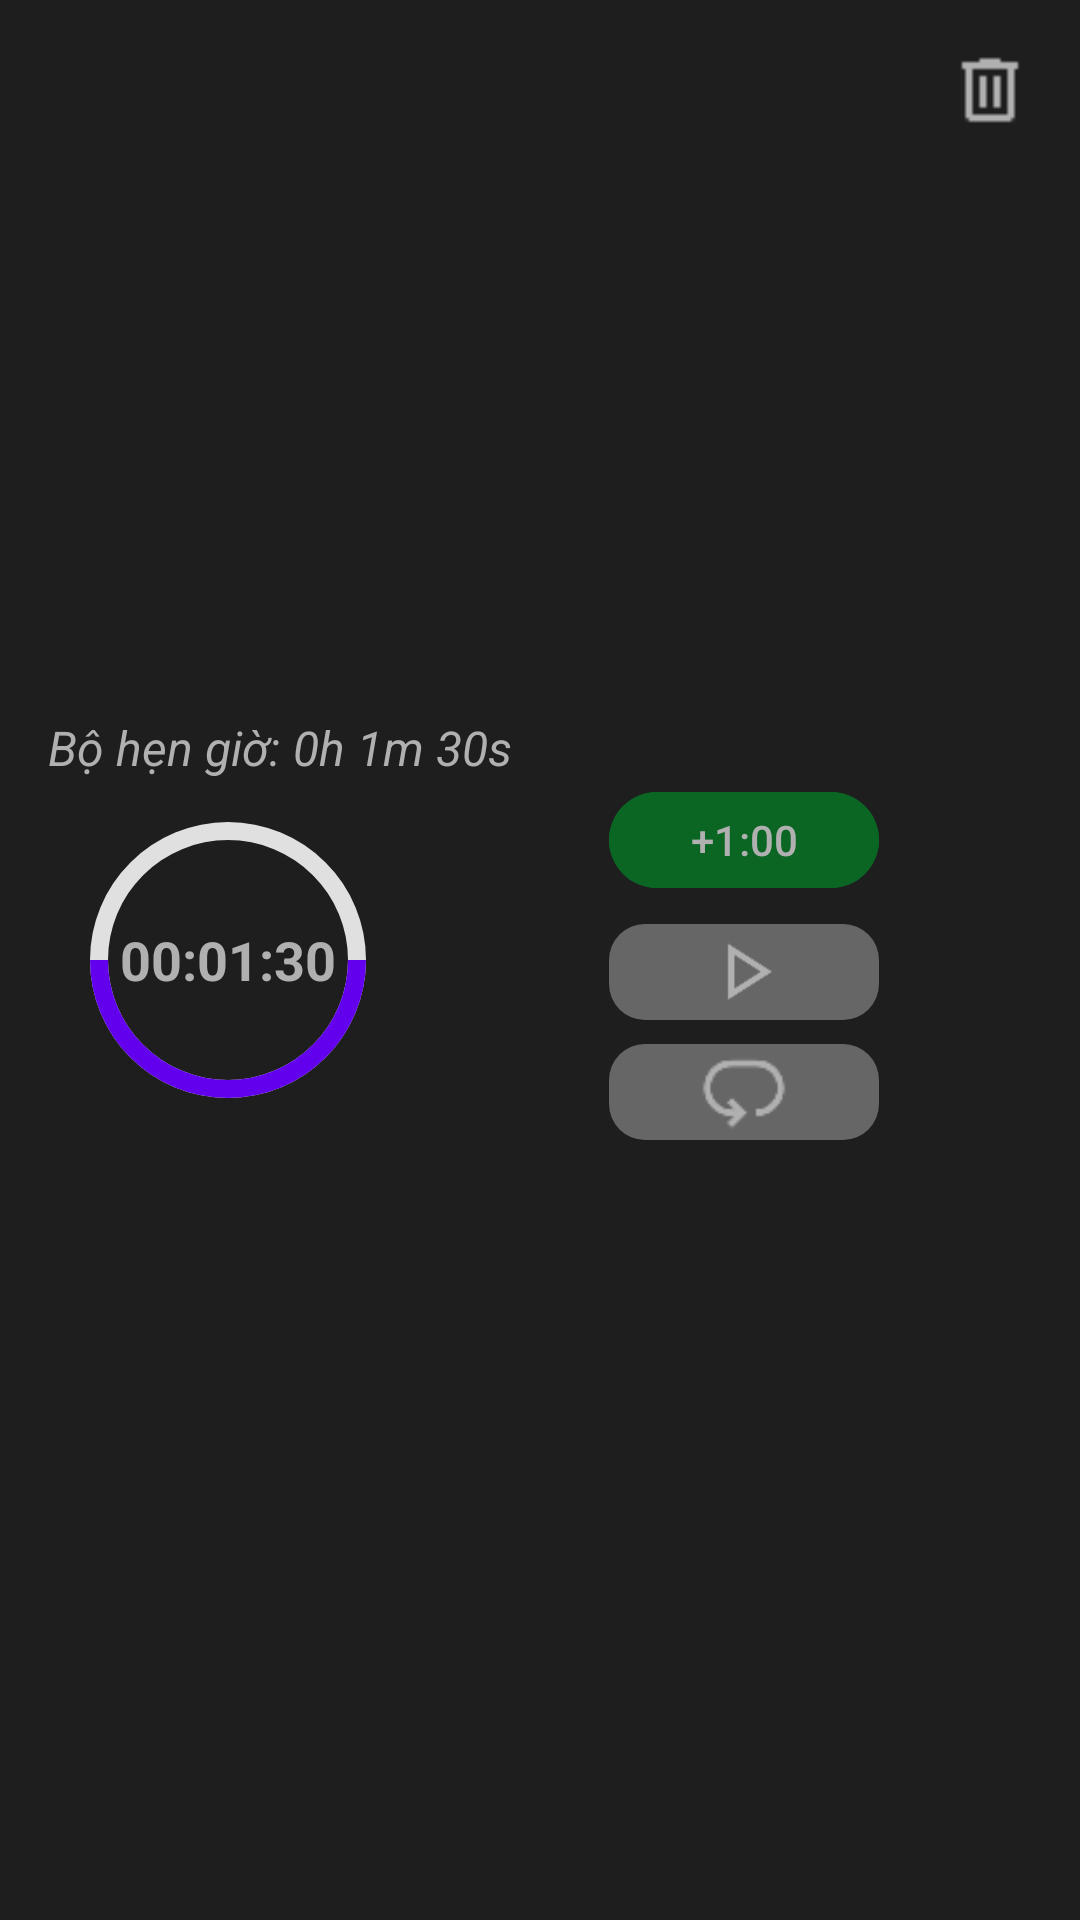

Named icons in this screenshot (1080w x 1920h) and their bounding boxes, [x1, y1, x2, y2]:
Play: [609, 924, 879, 1020]
Reset: [609, 1044, 879, 1140]
